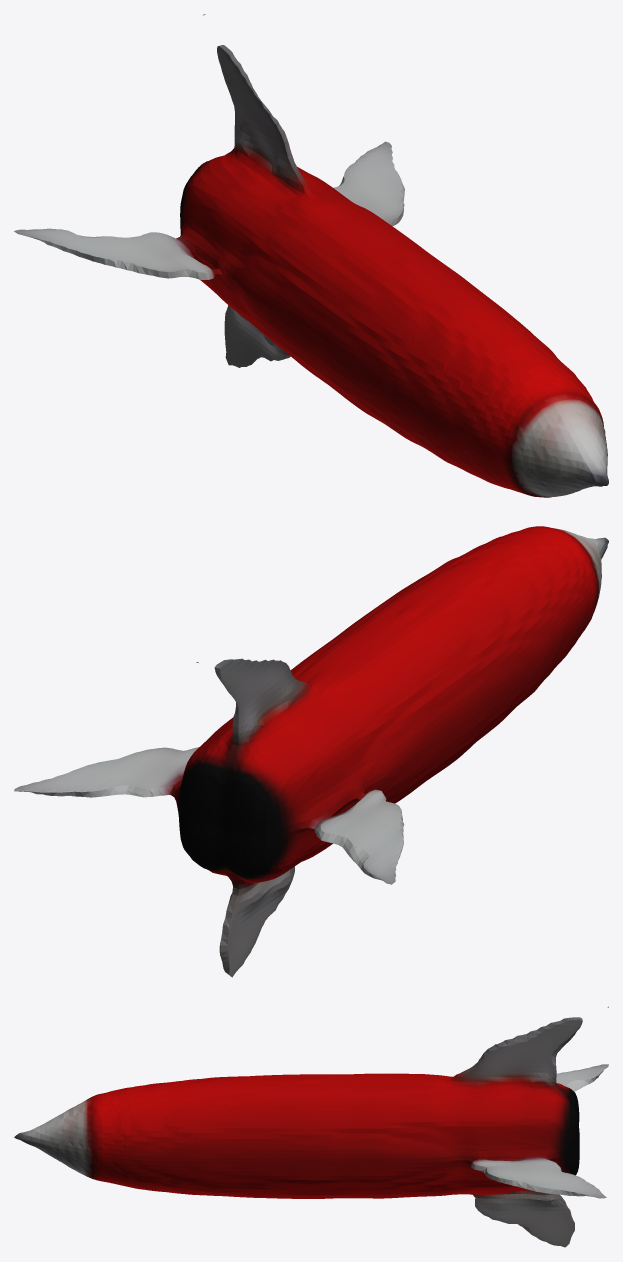
The model's file is Rocket_1749391394.obj.
3 views of the same model, one above another, from view 1: azimuth 30°, elevation 25°; view 2: azimuth 150°, elevation 25°; view 3: azimuth 270°, elevation 25° (orthographic). The views are drawn at different scales.
Size of the model in its own units: 1.03 by 0.8679 by 1.93.
